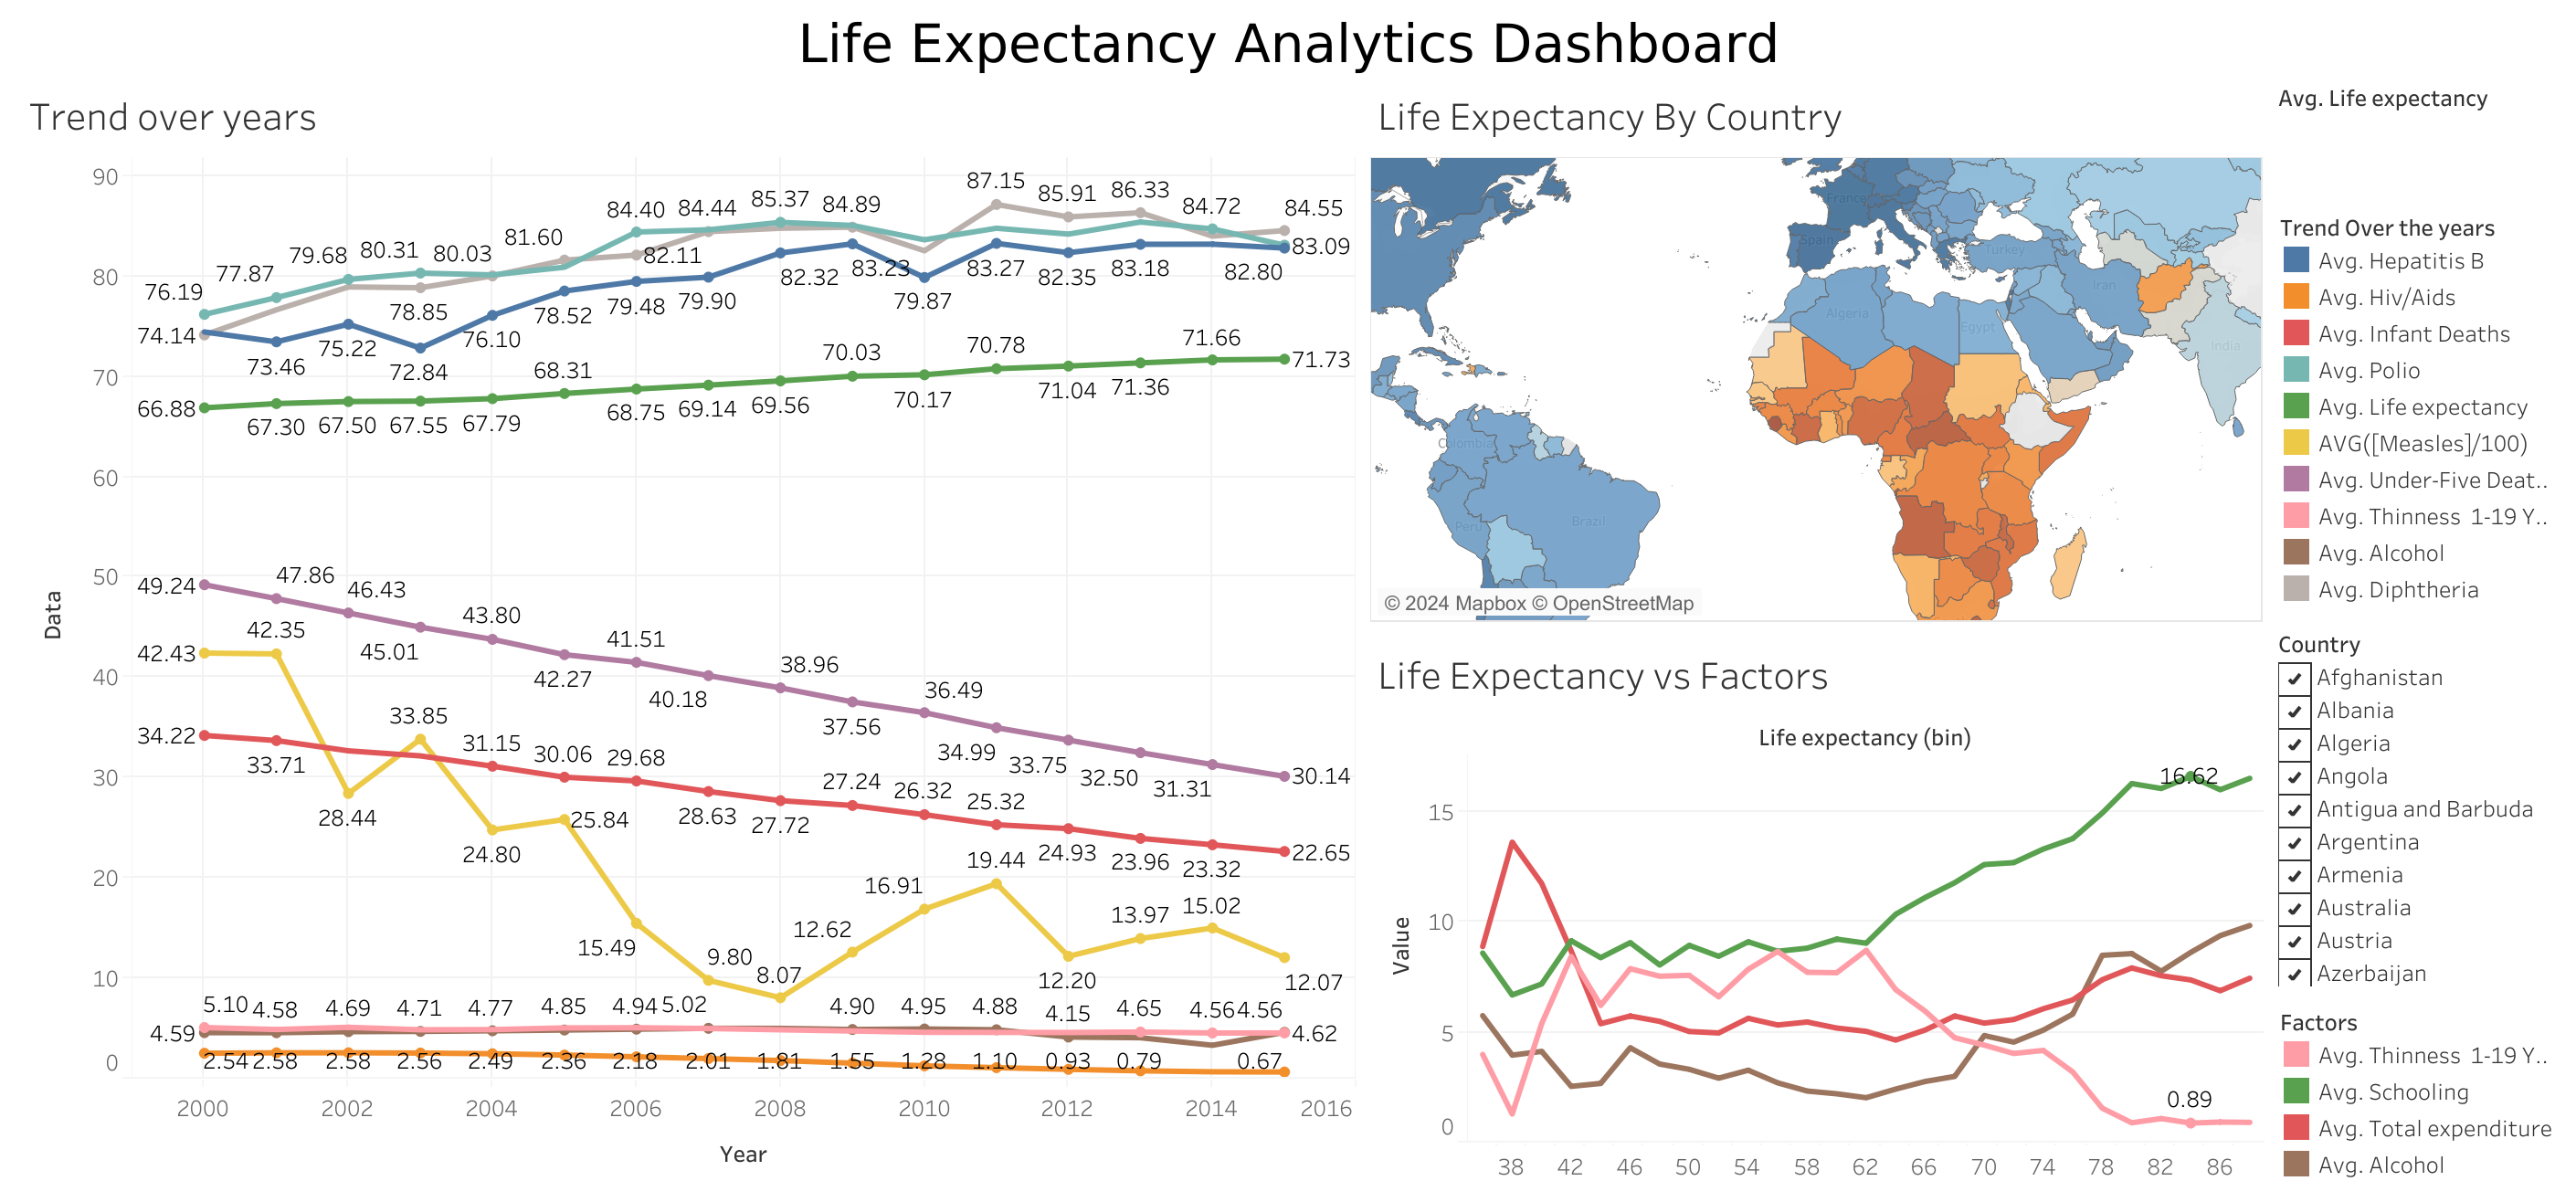

The dashboard page shown, as its layout file describes it:
{"tool":"tableau","page":{"name":"Final Dashboard","canvas":[1000,1000],"units":"permille","ordinal":0},"visuals":[{"type":"text","box":[5.7,10.3,988.7,47.4]},{"type":"worksheet","title":"Trend over years","mark":"Automatic","cols":["Year"],"box":[5.7,57.7,523.3,932.1]},{"type":"worksheet","title":"Life Expectancy By Country","mark":"Automatic","box":[529,57.7,352.2,466.1]},{"type":"filter","title":"Life Expectancy By Country","param":"[federated.1lentrr1qmnhl617vumjm1itnfu9].[avg:Life expectancy:qk]","box":[881.2,57.7,113.2,88.5]},{"type":"legend","title":"Trend over years","param":"[federated.1lentrr1qmnhl617vumjm1itnfu9].[:Measure Names]","box":[881.2,146.1,113.2,293.6]},{"type":"filter","title":"Trend over years","param":"[federated.1lentrr1qmnhl617vumjm1itnfu9].[none:Country:nk]","box":[881.2,439.7,113.2,414.1]},{"type":"worksheet","title":"Life Expectancy vs Factors","mark":"Line","cols":["Life expectancy (bin)"],"box":[529,523.7,352.2,466]},{"type":"legend","title":"Life Expectancy vs Factors","param":"[federated.1lentrr1qmnhl617vumjm1itnfu9].[:Measure Names]","box":[881.2,853.8,113.2,135.9]}]}

Visuals, with their boxes on the dashboard's canvas, which has no fixed pixel size, in thousandths of its width and height (x1, y1, x2, y2). These are canvas units, not pixel positions in the 2576x1202 screenshot, which may show the page scaled, cropped or inside an application window:
text: BBox(6, 10, 994, 58)
"Trend over years" worksheet: BBox(6, 58, 529, 990)
"Life Expectancy By Country" worksheet: BBox(529, 58, 881, 524)
"Life Expectancy By Country" filter: BBox(881, 58, 994, 146)
"Trend over years" legend: BBox(881, 146, 994, 440)
"Trend over years" filter: BBox(881, 440, 994, 854)
"Life Expectancy vs Factors" worksheet (Line marks): BBox(529, 524, 881, 990)
"Life Expectancy vs Factors" legend: BBox(881, 854, 994, 990)
